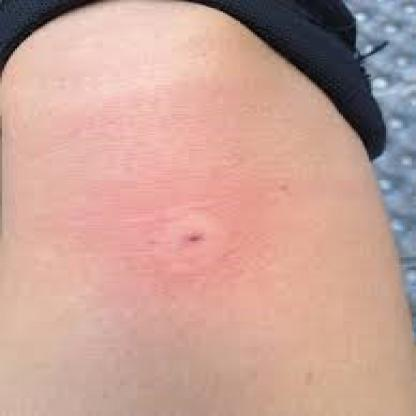Wasp: (129, 199, 253, 278)
